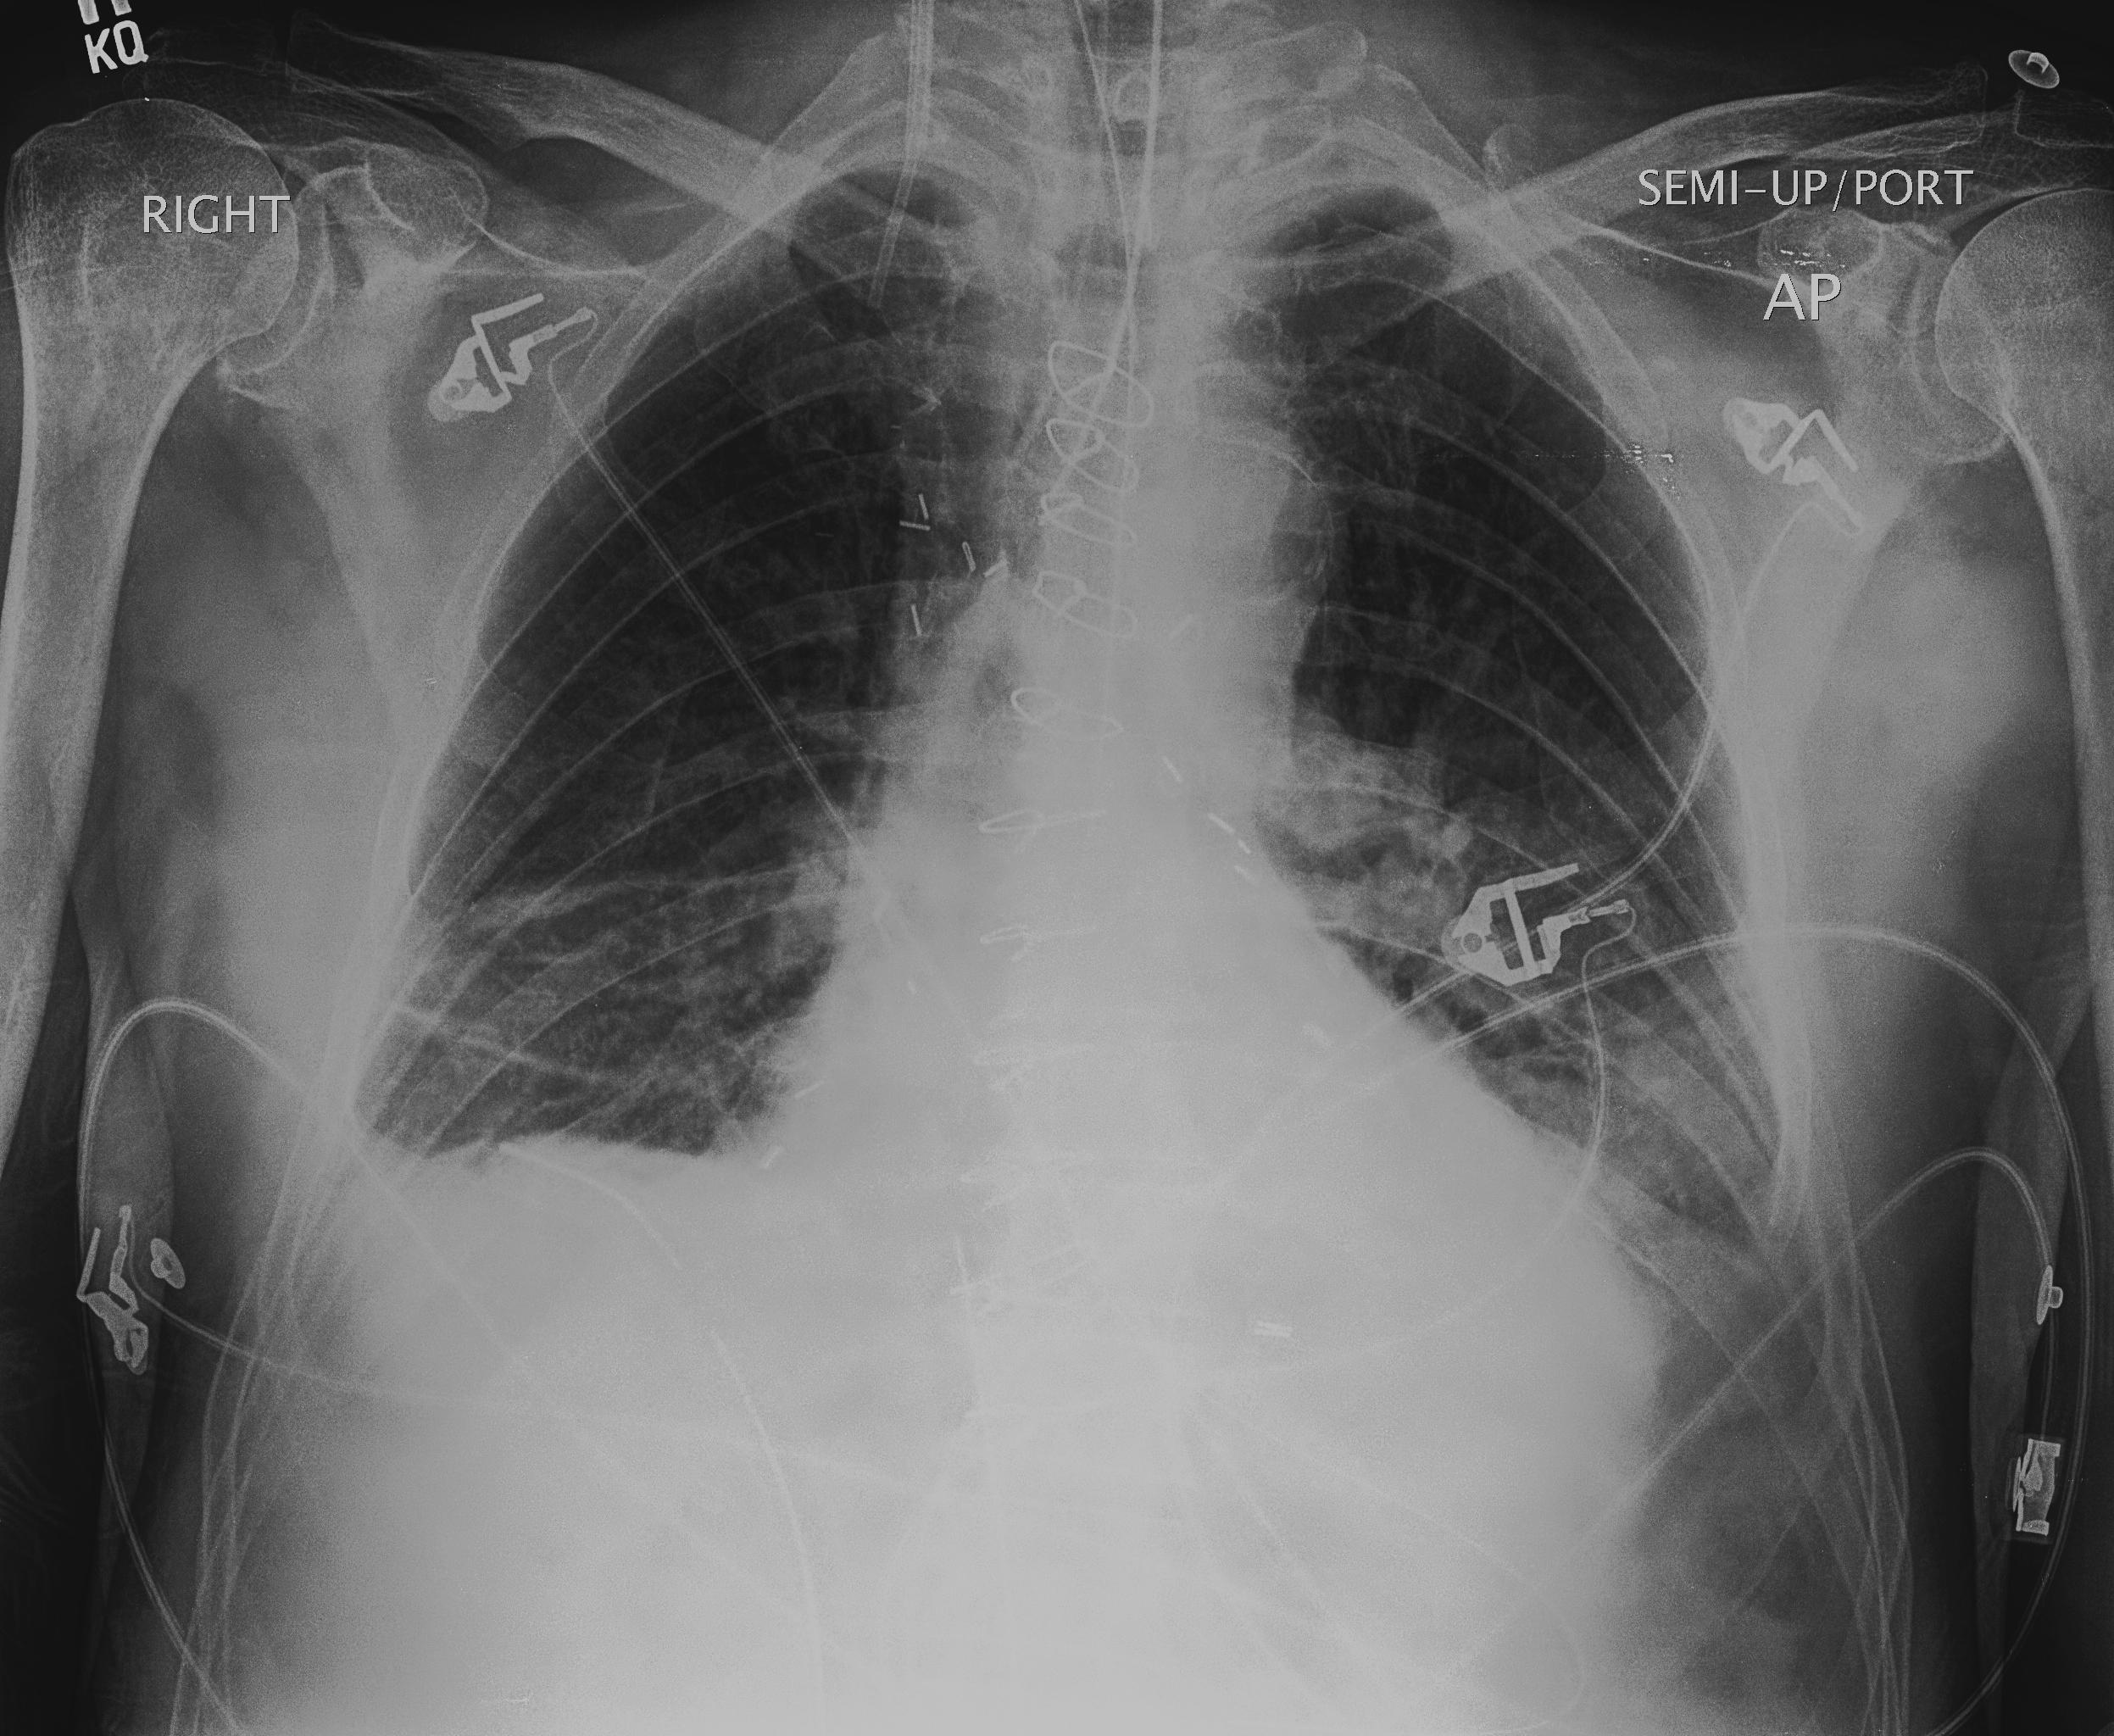Pleural Effusion: (205, 1097, 620, 1485)
